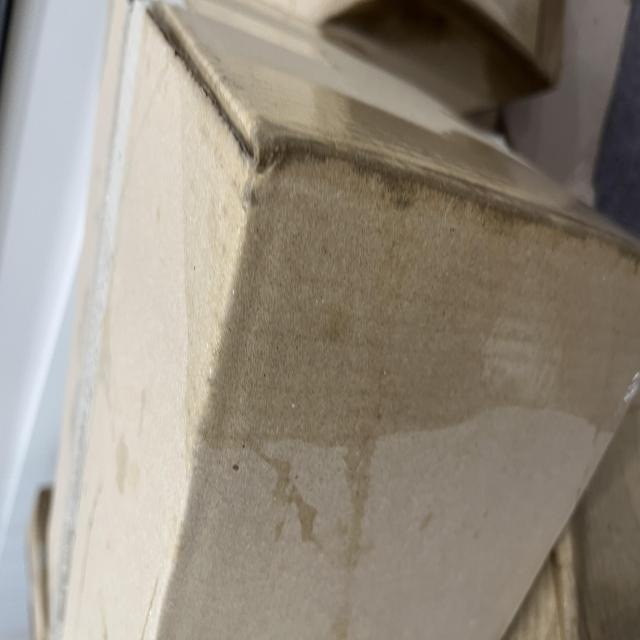wet: (4, 81, 480, 640)
